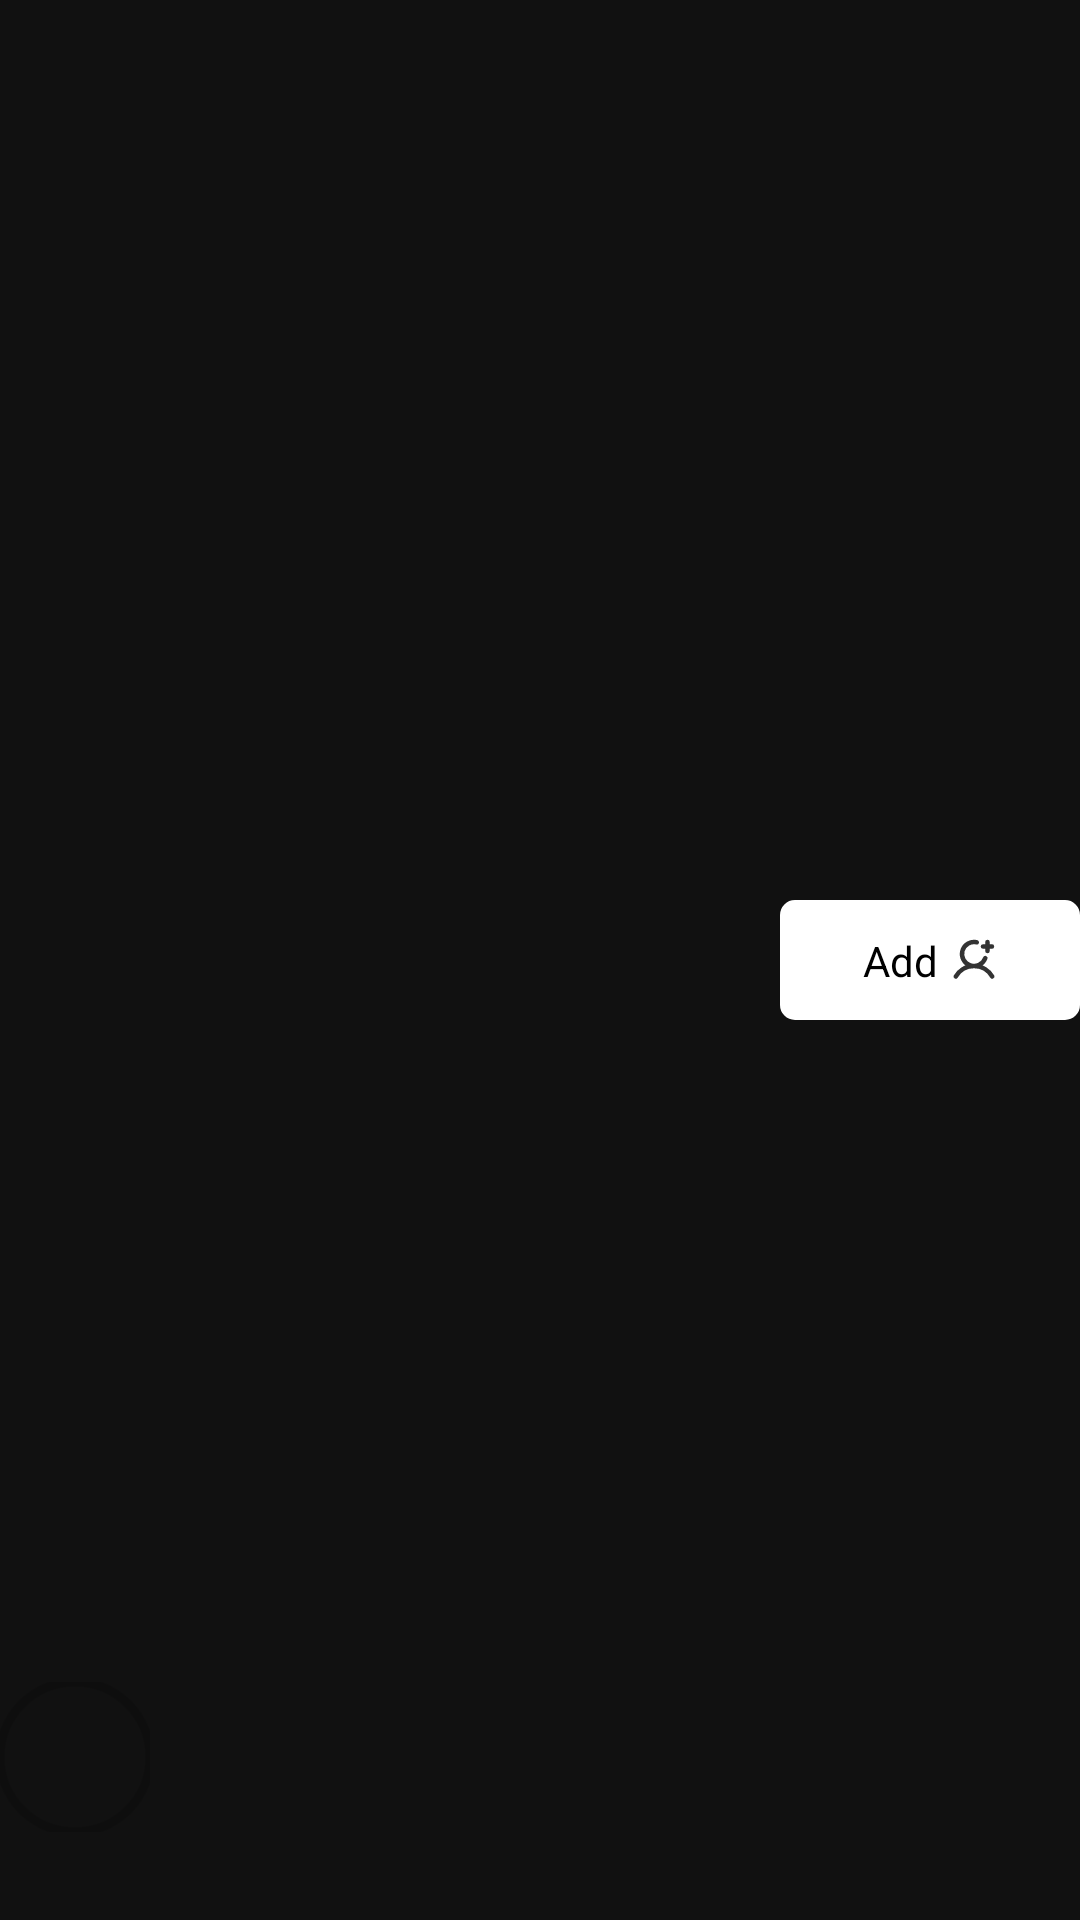

Icons on this 1080 x 1920 Android screen, each with its box as (left=x1, top=y1, right=x2, bottom=y2):
user plus: (left=953, top=939, right=995, bottom=979)
